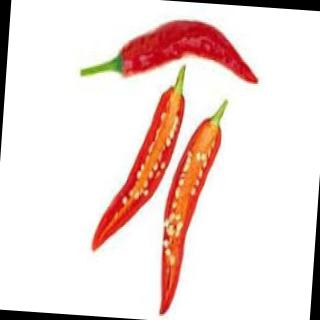Cabai Merah: (90, 79, 190, 256), (114, 15, 264, 88)
